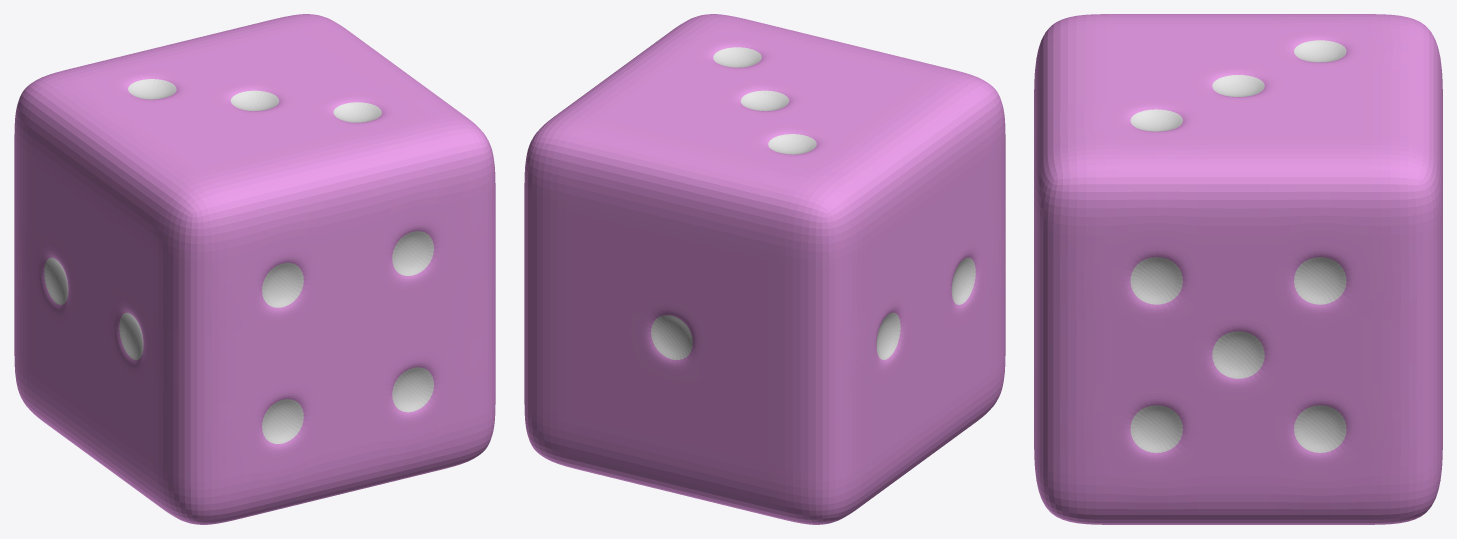
Rendered from dice.glb.
3 renders of one model, left to right at view 1: azimuth 30°, elevation 25°; view 2: azimuth 150°, elevation 25°; view 3: azimuth 270°, elevation 25°, orthographic. The views are drawn at different scales.
Parts seen in each view (by area): view 1: Cube; view 2: Cube; view 3: Cube.
Boxes of the visible parts, <box> form: Cube: <box>14,14,495,524</box>; Cube: <box>524,14,1005,524</box>; Cube: <box>1034,14,1442,524</box>.
Size of the model in its own units: 2 by 2 by 2.
